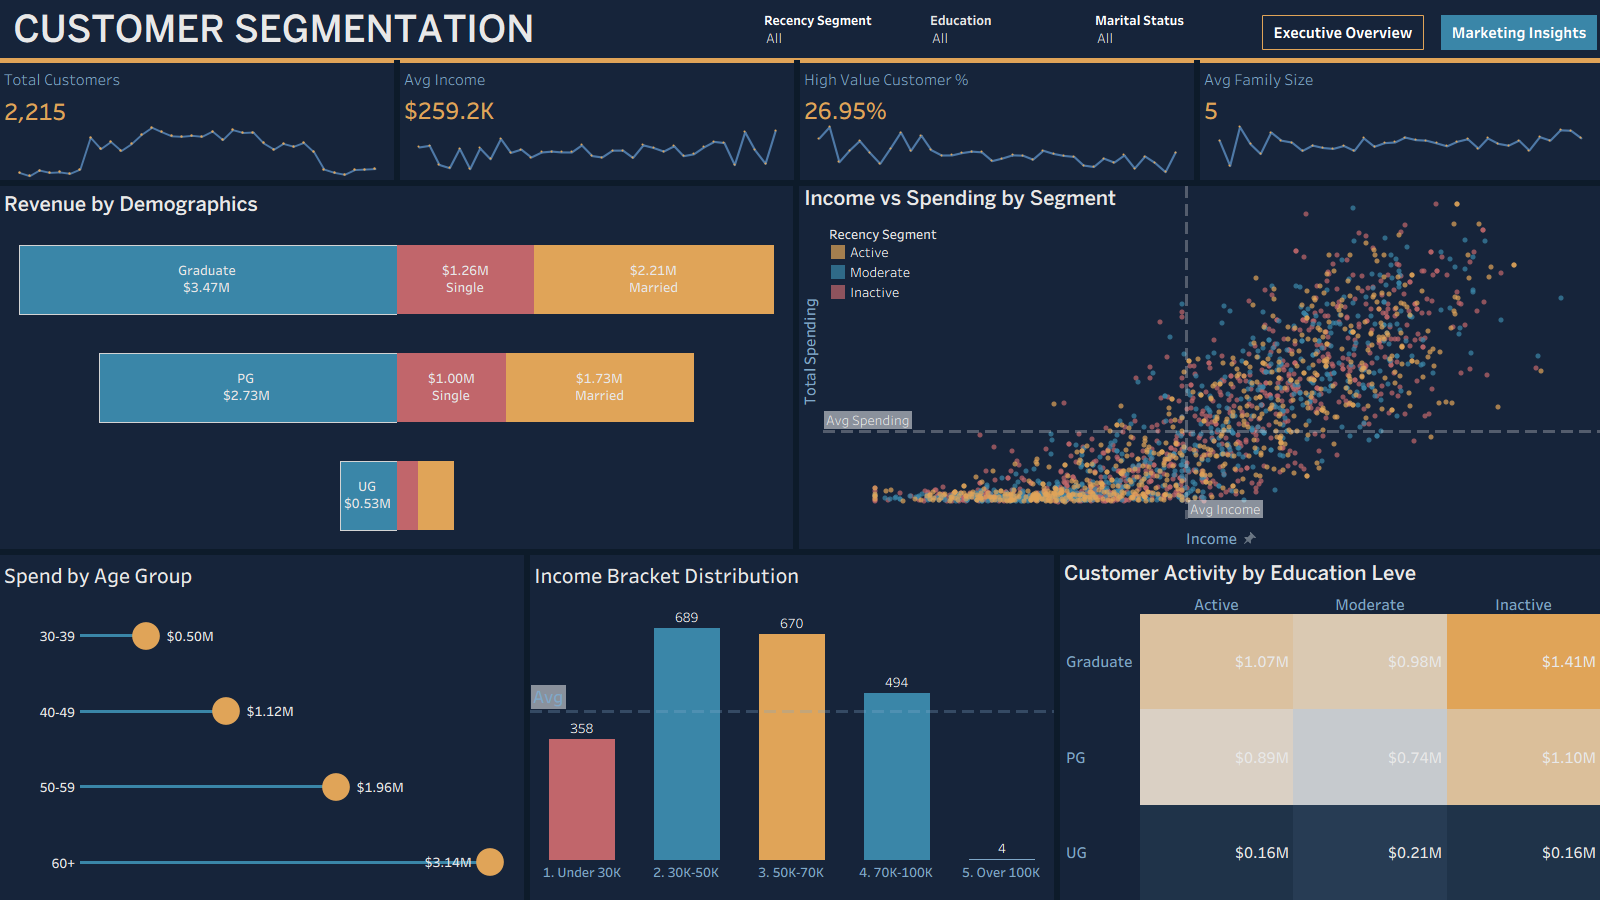

The dashboard page shown, as its layout file describes it:
{"tool":"tableau","page":{"name":"Dashboard 2","canvas":[1600,900],"ordinal":1},"visuals":[{"type":"blank","box":[0,0,1600,60]},{"type":"text","box":[10,10,600,40]},{"type":"filter","title":"Spend by Age Group","param":"[federated.1vi3xsm1xu7bal18wals21w07avw].[none:Recency_Segment (vw_customer_info","box":[764,10,145,40]},{"type":"filter","title":"Spend by Age Group","param":"[federated.1vi3xsm1xu7bal18wals21w07avw].[none:Education:nk]","box":[930,10,145,40]},{"type":"filter","title":"Spend by Age Group","param":"[federated.1vi3xsm1xu7bal18wals21w07avw].[none:Marital_Status:nk]","box":[1095,10,145,40]},{"type":"dashboard-object","box":[1262,15,162,35]},{"type":"dashboard-object","box":[1441,15,156,35]},{"type":"blank","box":[0,58,1600,2]},{"type":"blank","box":[0,60,394,3]},{"type":"blank","box":[394,60,6,120]},{"type":"blank","box":[400,60,394,3]},{"type":"blank","box":[794,60,6,120]},{"type":"blank","box":[800,60,394,3]},{"type":"blank","box":[1194,60,6,120]},{"type":"blank","box":[1200,60,400,3]},{"type":"worksheet","title":"Total Customers","mark":"Automatic","box":[0,63,394,60]},{"type":"worksheet","title":"Avg Income","mark":"Automatic","box":[400,63,394,60]},{"type":"worksheet","title":"High Value Customer %","mark":"Automatic","box":[800,63,394,60]},{"type":"worksheet","title":"Avg Family Size","mark":"Automatic","box":[1200,63,400,60]},{"type":"worksheet","title":"Total Customer Sparkline","mark":"Automatic","rows":["Calculation_0373852742451200","Calculation_0373852742451200"],"cols":["Dt_Customer"],"box":[0,123,394,57]},{"type":"worksheet","title":"Avg Income Sparkline","mark":"Automatic","rows":["Calculation_2191071714410496","Calculation_2191071714410496"],"cols":["Dt_Customer"],"box":[400,123,394,57]},{"type":"worksheet","title":"High Value Customer Sparkline","mark":"Automatic","rows":["Calculation_2191071716491265","Calculation_2191071716491265"],"cols":["Dt_Customer"],"box":[800,123,394,57]},{"type":"worksheet","title":"Avg Family Size Sparkline","mark":"Automatic","rows":["Calculation_2191071719743490","Calculation_2191071719743490"],"cols":["Dt_Customer"],"box":[1200,123,400,57]},{"type":"blank","box":[0,180,1600,6]},{"type":"worksheet","title":"Butterfly Education vs Marital","mark":"Bar","rows":["Education"],"cols":["Calculation_2191071784800265","Calculation_2191071784878090"],"box":[0,186,793,363]},{"type":"blank","box":[793,186,6,363]},{"type":"worksheet","title":"Scatter Plot: Income vs Total Spending","mark":"Circle","rows":["Total_Spending"],"cols":["Income"],"box":[799,186,801,363]},{"type":"text","box":[801,186,350,25]},{"type":"legend","title":"Scatter Plot: Income vs Total Spending","param":"[federated.1vi3xsm1xu7bal18wals21w07avw].[none:Recency_Segment (vw_customer_info","box":[828,223,120,84]},{"type":"blank","box":[0,549,1600,6]},{"type":"worksheet","title":"Spend by Age Group","mark":"Automatic","rows":["Calculation_2191071721709571"],"cols":["Calculation_1525316289662976","Calculation_1525316289662976"],"box":[0,555,524,345]},{"type":"blank","box":[524,555,6,345]},{"type":"worksheet","title":"Income Bracket Distribution","mark":"Automatic","rows":["Id"],"cols":["Calculation_2191071806500875"],"box":[530,555,524,345]},{"type":"blank","box":[1054,555,6,345]},{"type":"worksheet","title":"Heatmap Education vs Recency","mark":"Square","rows":["Education"],"cols":["Recency_Segment (vw_customer_info)"],"box":[1060,555,540,345]}]}

Visuals, with their boxes in screenshot pixels (x1, y1, x2, y2), scaled from the page's 1600x900 canvas onto the 1600x900 screenshot:
blank: {"x1": 0, "y1": 0, "x2": 1599, "y2": 60}
text: {"x1": 10, "y1": 10, "x2": 610, "y2": 50}
"Spend by Age Group" filter: {"x1": 764, "y1": 10, "x2": 909, "y2": 50}
"Spend by Age Group" filter: {"x1": 930, "y1": 10, "x2": 1075, "y2": 50}
"Spend by Age Group" filter: {"x1": 1095, "y1": 10, "x2": 1240, "y2": 50}
dashboard-object: {"x1": 1262, "y1": 15, "x2": 1424, "y2": 50}
dashboard-object: {"x1": 1441, "y1": 15, "x2": 1597, "y2": 50}
blank: {"x1": 0, "y1": 58, "x2": 1599, "y2": 60}
blank: {"x1": 0, "y1": 60, "x2": 394, "y2": 63}
blank: {"x1": 394, "y1": 60, "x2": 400, "y2": 180}
blank: {"x1": 400, "y1": 60, "x2": 794, "y2": 63}
blank: {"x1": 794, "y1": 60, "x2": 800, "y2": 180}
blank: {"x1": 800, "y1": 60, "x2": 1194, "y2": 63}
blank: {"x1": 1194, "y1": 60, "x2": 1200, "y2": 180}
blank: {"x1": 1200, "y1": 60, "x2": 1599, "y2": 63}
"Total Customers" worksheet: {"x1": 0, "y1": 63, "x2": 394, "y2": 123}
"Avg Income" worksheet: {"x1": 400, "y1": 63, "x2": 794, "y2": 123}
"High Value Customer %" worksheet: {"x1": 800, "y1": 63, "x2": 1194, "y2": 123}
"Avg Family Size" worksheet: {"x1": 1200, "y1": 63, "x2": 1599, "y2": 123}
"Total Customer Sparkline" worksheet: {"x1": 0, "y1": 123, "x2": 394, "y2": 180}
"Avg Income Sparkline" worksheet: {"x1": 400, "y1": 123, "x2": 794, "y2": 180}
"High Value Customer Sparkline" worksheet: {"x1": 800, "y1": 123, "x2": 1194, "y2": 180}
"Avg Family Size Sparkline" worksheet: {"x1": 1200, "y1": 123, "x2": 1599, "y2": 180}
blank: {"x1": 0, "y1": 180, "x2": 1599, "y2": 186}
"Butterfly Education vs Marital" worksheet (Bar marks): {"x1": 0, "y1": 186, "x2": 793, "y2": 549}
blank: {"x1": 793, "y1": 186, "x2": 799, "y2": 549}
"Scatter Plot: Income vs Total Spending" worksheet (Circle marks): {"x1": 799, "y1": 186, "x2": 1599, "y2": 549}
text: {"x1": 801, "y1": 186, "x2": 1151, "y2": 211}
"Scatter Plot: Income vs Total Spending" legend: {"x1": 828, "y1": 223, "x2": 948, "y2": 307}
blank: {"x1": 0, "y1": 549, "x2": 1599, "y2": 555}
"Spend by Age Group" worksheet: {"x1": 0, "y1": 555, "x2": 524, "y2": 899}
blank: {"x1": 524, "y1": 555, "x2": 530, "y2": 899}
"Income Bracket Distribution" worksheet: {"x1": 530, "y1": 555, "x2": 1054, "y2": 899}
blank: {"x1": 1054, "y1": 555, "x2": 1060, "y2": 899}
"Heatmap Education vs Recency" worksheet (Square marks): {"x1": 1060, "y1": 555, "x2": 1599, "y2": 899}
